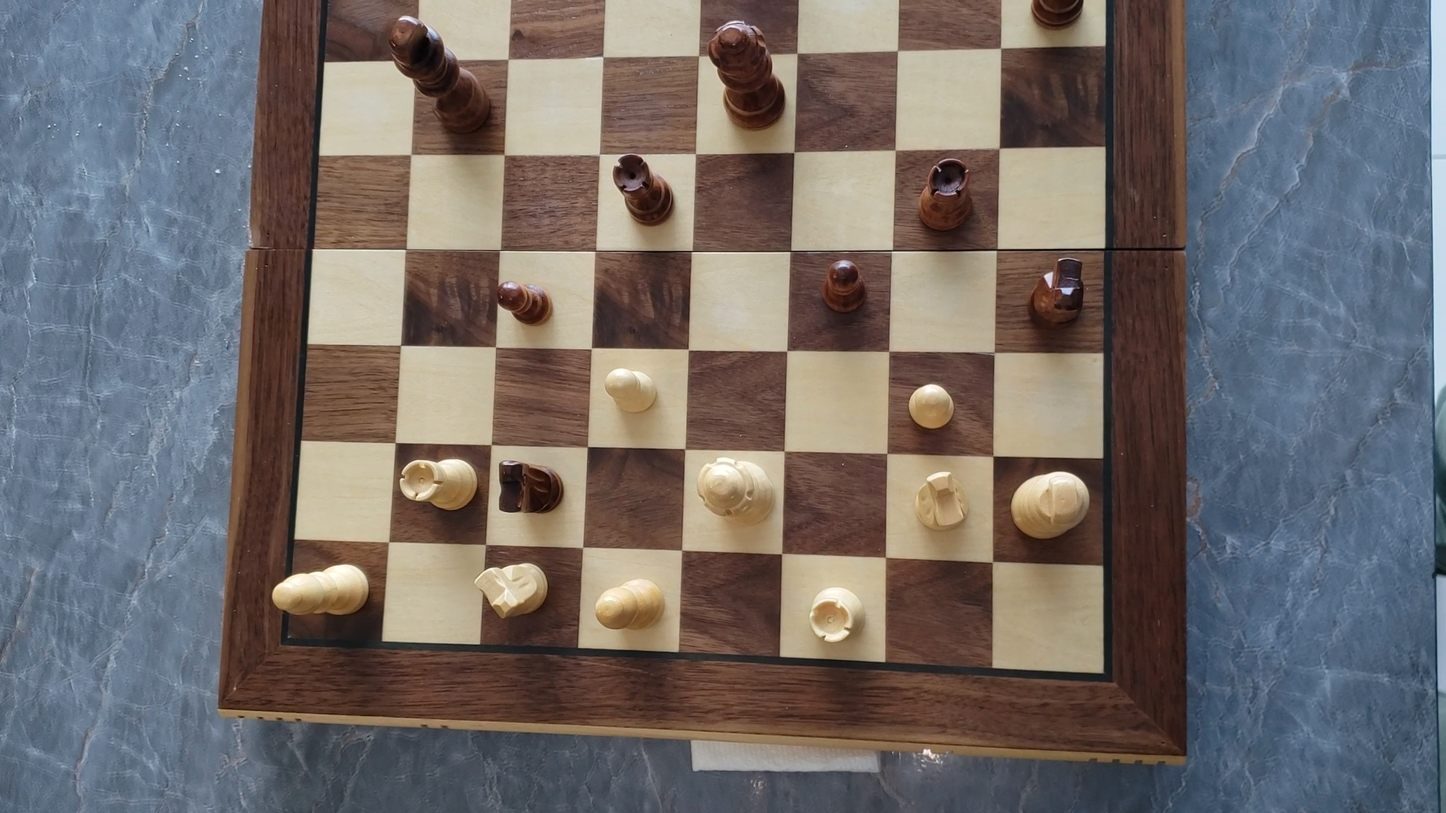black-king: (381, 16, 491, 137)
black-knight: (1027, 254, 1088, 327), (496, 457, 565, 514)
black-pawn: (819, 253, 869, 316), (493, 277, 553, 326)
black-queen: (693, 12, 798, 127)
black-rook: (609, 151, 676, 228), (914, 155, 976, 233)
white-bishop: (585, 571, 672, 647), (269, 561, 373, 619)
white-king: (1004, 469, 1091, 542)
white-knight: (469, 558, 552, 622), (909, 467, 970, 534)
white-pawn: (599, 363, 663, 416), (903, 379, 959, 432)
white-queen: (689, 453, 779, 533)
white-rook: (796, 579, 876, 653), (397, 455, 478, 513)
